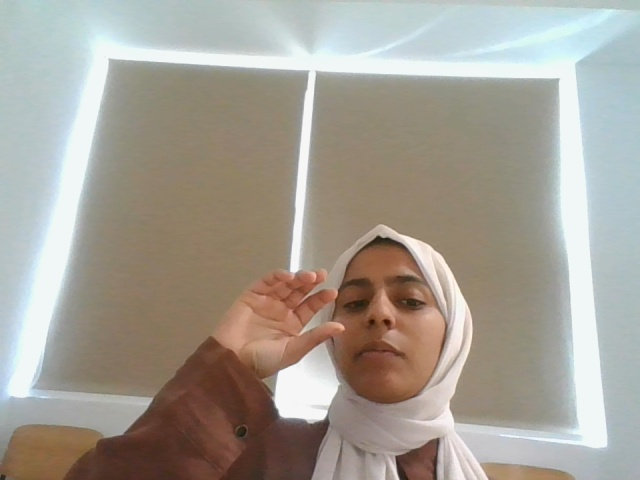drink: (225, 258, 347, 367)
